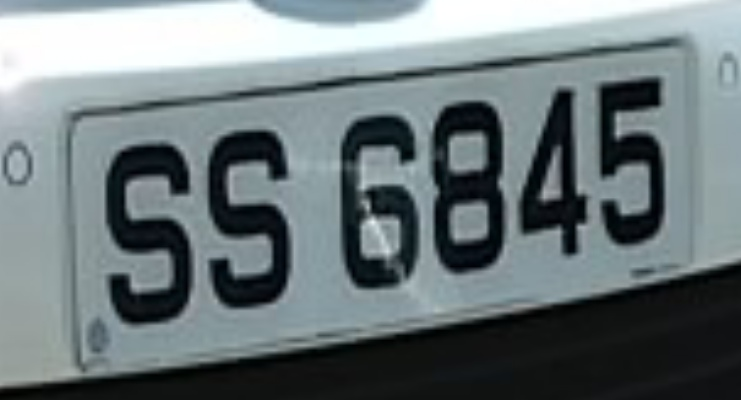4: (507, 75, 601, 269)
5: (590, 67, 675, 263)
6: (332, 98, 429, 315)
8: (421, 81, 514, 282)
S: (92, 126, 204, 352), (200, 117, 307, 331)
